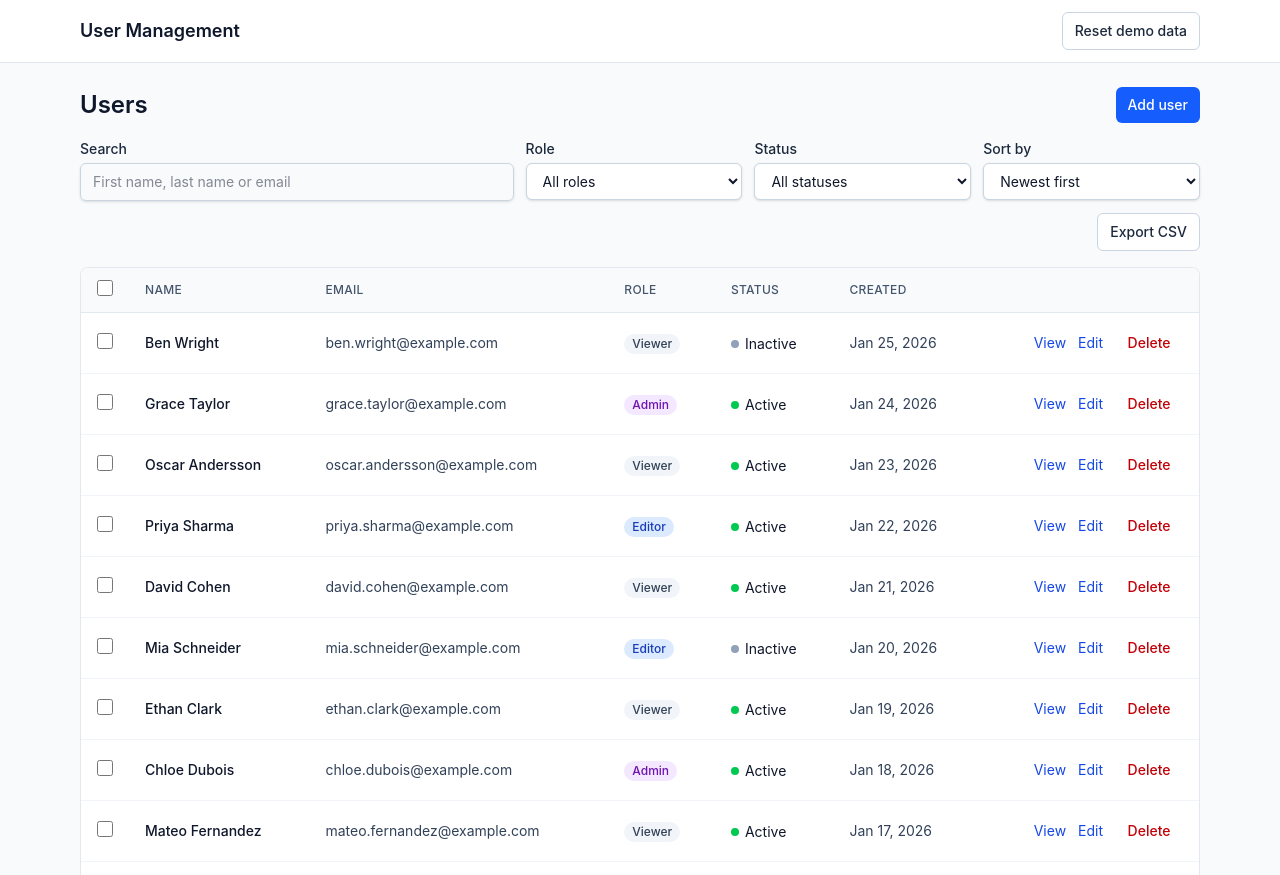
Test: Delete user from the list › confirms with the user named, deletes, toasts and refreshes the list
The width and height of the screenshot is (1280, 875).
Click the button with aria-label "Delete Ben Wright" at (1149, 343), box [1115, 325, 1183, 361]
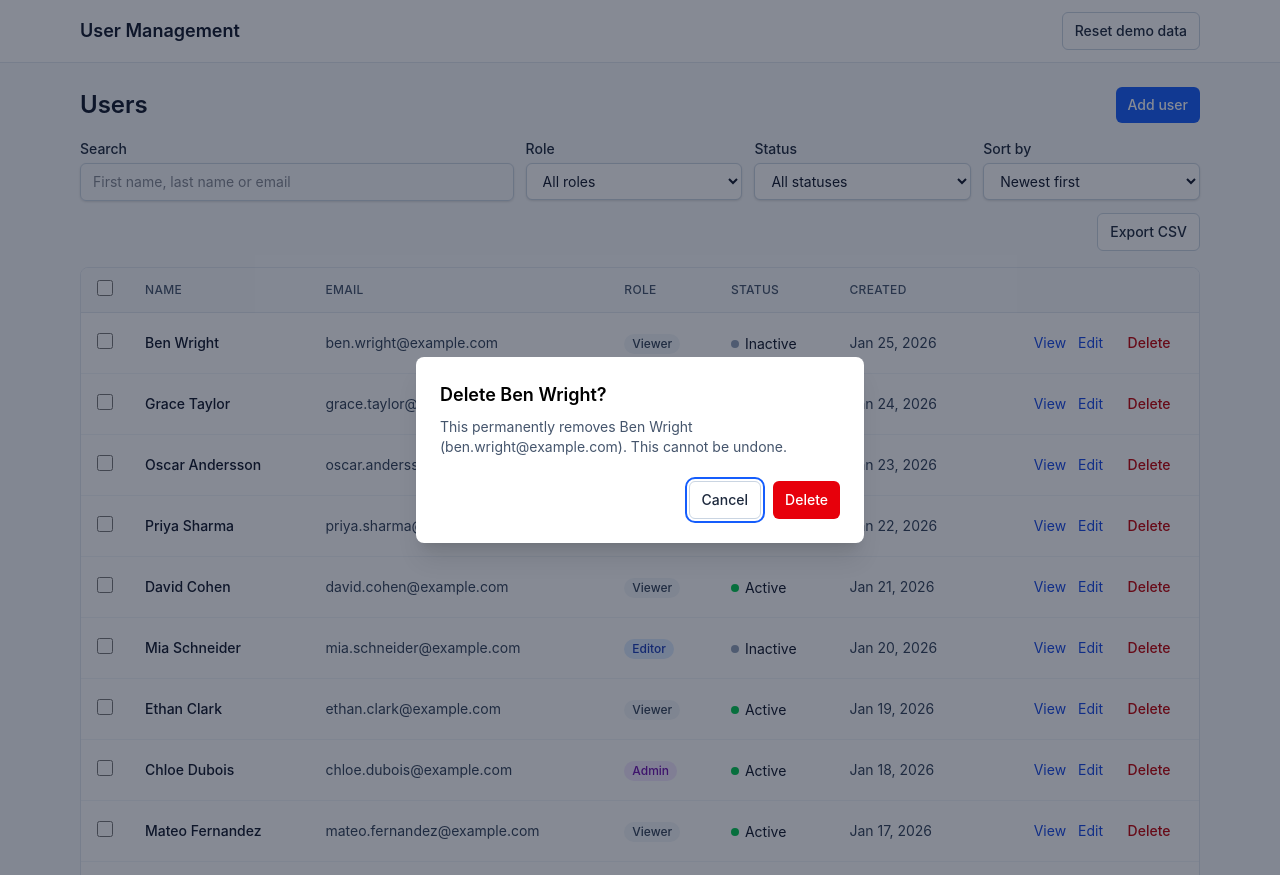
Click the button "Delete" at (807, 500), box [773, 481, 840, 519]
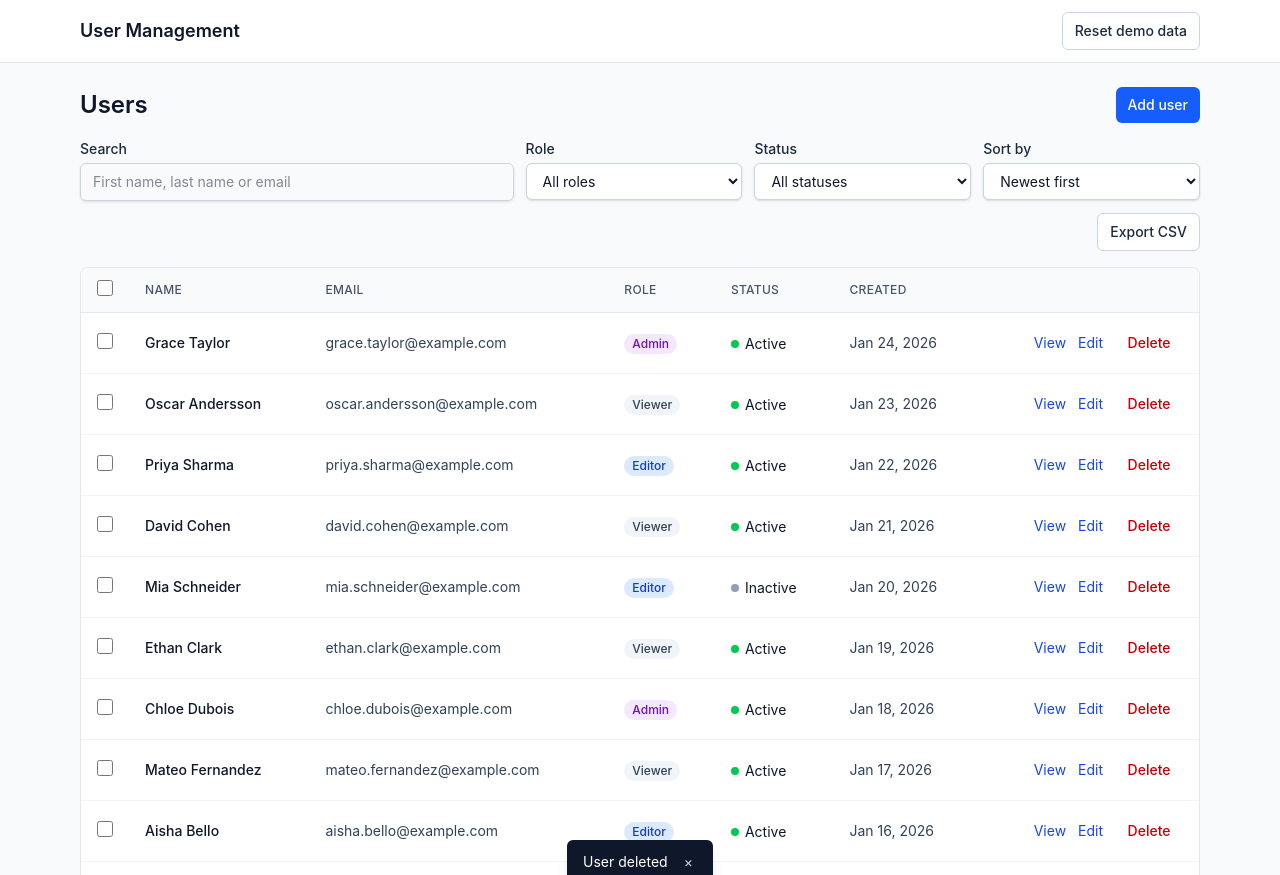
Result: the column heading no longer shows "Ben Wright"
Result: the message named "Notifications" shows "User deleted" at [583, 853, 668, 870]
Result: the dialog is gone
